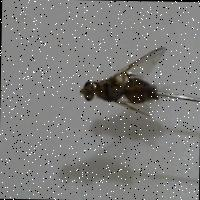Oriental-fruit-fly: (60, 37, 178, 130)
